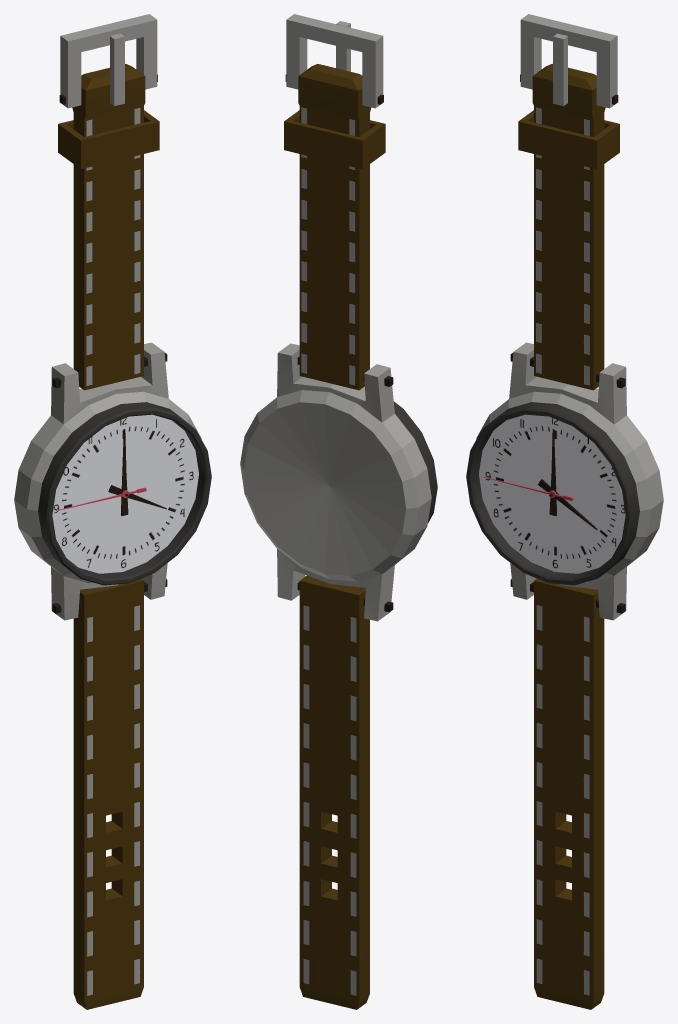
File: Watch.fbx
3 views of the same model, side by side, from view 1: azimuth 30°, elevation 25°; view 2: azimuth 150°, elevation 25°; view 3: azimuth 330°, elevation 25° (orthographic).
Visible parts, largest first — view 1: Wirst_Watch1; view 2: Wirst_Watch1; view 3: Wirst_Watch1.
Part boxes in pixels (box(x1,y1,x2,y2)): Wirst_Watch1: box(14, 14, 211, 1009); Wirst_Watch1: box(240, 14, 437, 1009); Wirst_Watch1: box(466, 14, 663, 1009).
Size of the model in its own units: 2.07 by 10.76 by 0.653.
1 material, 1 textured.
